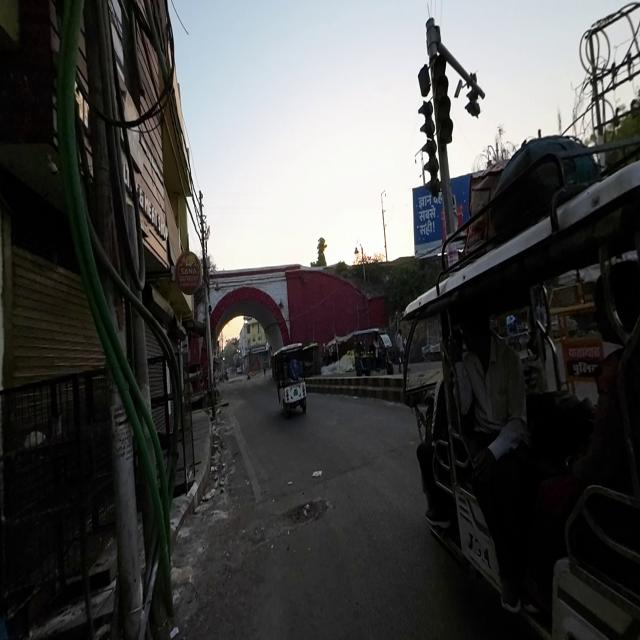Garbage: (207, 426, 227, 498), (309, 465, 326, 481)
